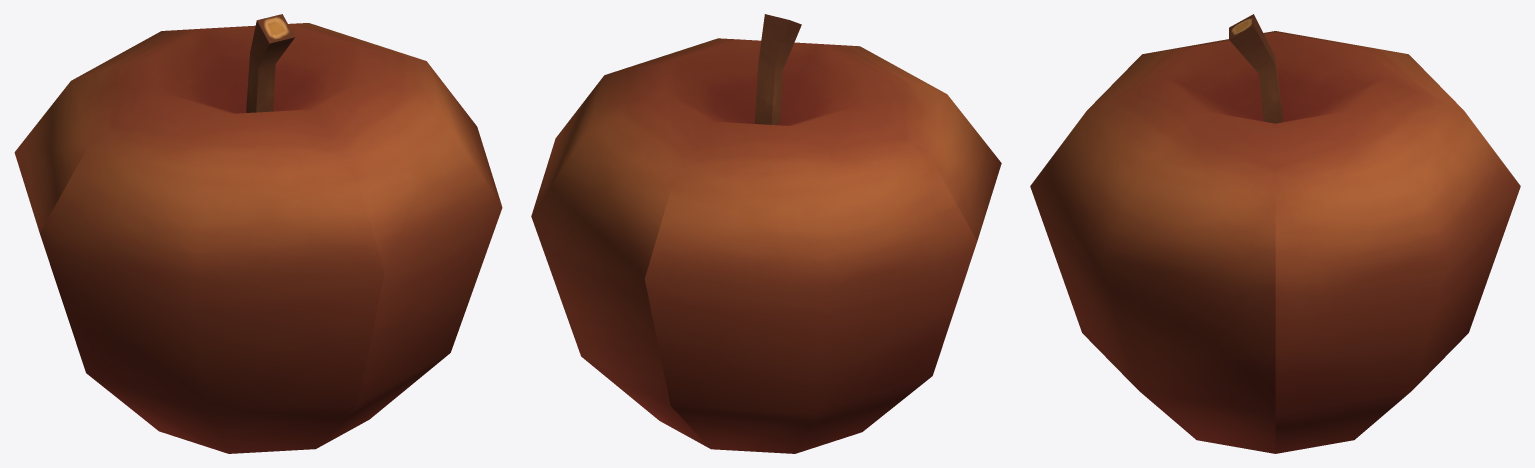
Rendered from Apple.fbx.
3 views of the same model, side by side, from view 1: azimuth 30°, elevation 25°; view 2: azimuth 150°, elevation 25°; view 3: azimuth 270°, elevation 25° (orthographic). The views are drawn at different scales.
Visible parts, largest first — view 1: polySurface356; view 2: polySurface356; view 3: polySurface356.
Part boxes in pixels (left/top/right/bottom): polySurface356: left=14, top=14, right=502, bottom=453; polySurface356: left=531, top=14, right=1001, bottom=453; polySurface356: left=1030, top=14, right=1520, bottom=453.
Bounding box in the file's own units: 0.1989 × 0.1787 × 0.1989.
